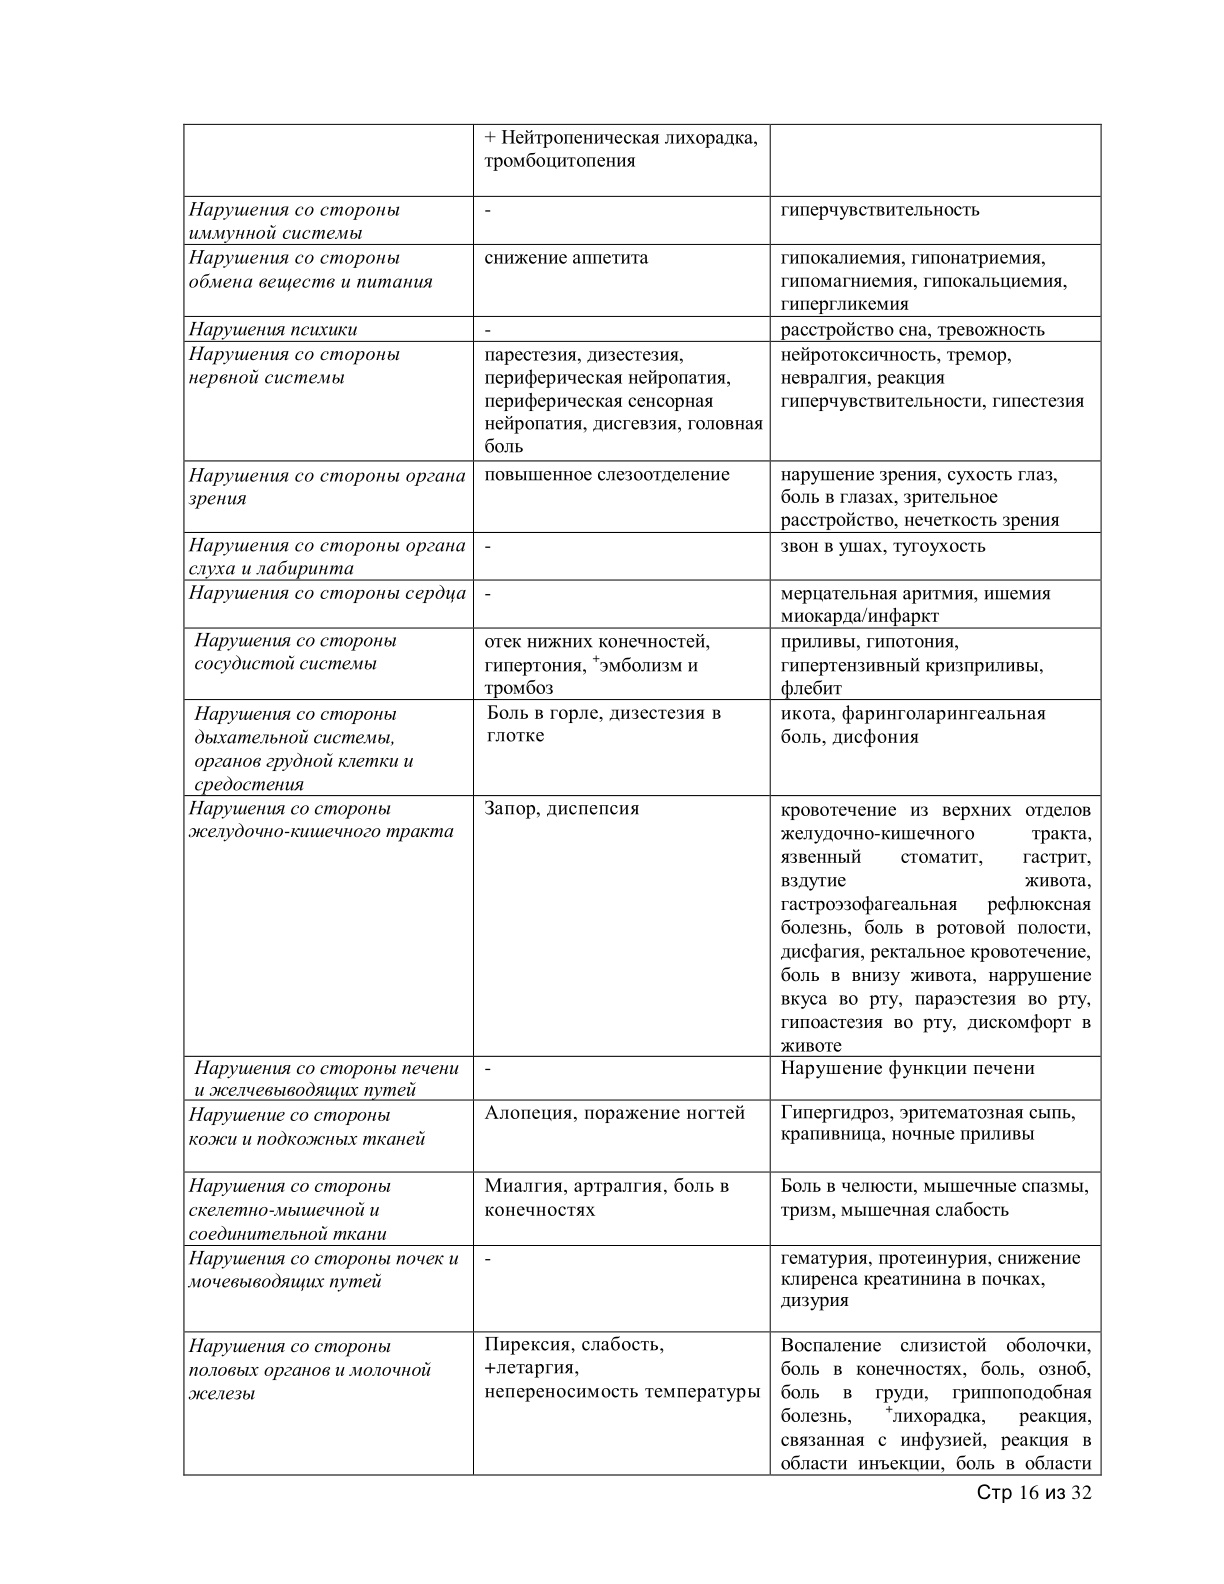full_lined: (183, 123, 1102, 1477)
